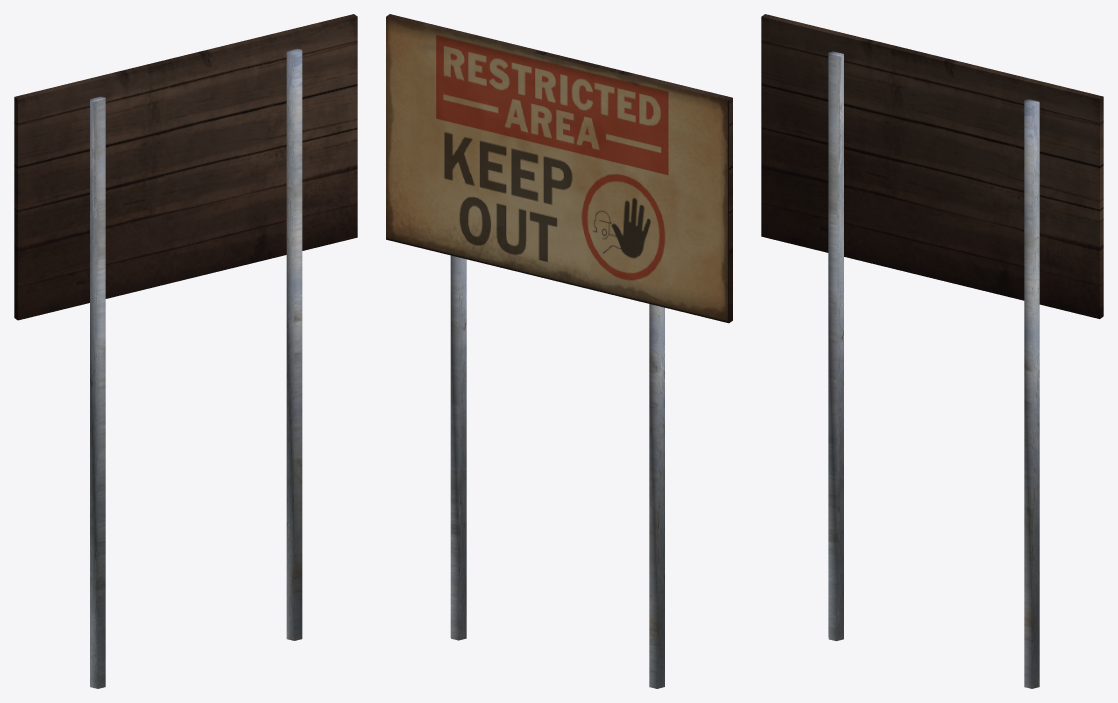
Rendered from boardAutoriz.fbx.
The picture shows the model from 3 angles, left to right: view 1: azimuth 30°, elevation 25°; view 2: azimuth 150°, elevation 25°; view 3: azimuth 330°, elevation 25°; orthographic projection.
Visible parts, largest first — view 1: board.002; view 2: board.002; view 3: board.002.
Part boxes in pixels (<box>): board.002: <box>14,14,357,688</box>; board.002: <box>386,14,732,688</box>; board.002: <box>761,14,1103,688</box>.
Bounding box in the file's own units: 2 × 3.39 × 0.1018.
